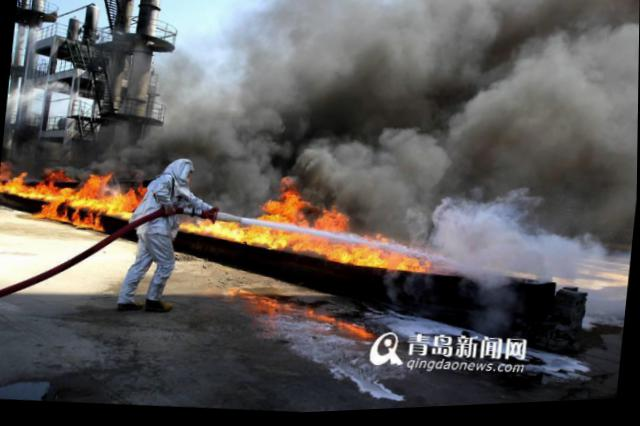fire: (180, 218, 244, 243), (328, 246, 383, 270), (57, 186, 105, 211), (243, 225, 288, 251), (263, 200, 304, 226), (288, 234, 330, 259), (314, 208, 349, 236), (103, 192, 135, 218), (386, 254, 422, 275), (17, 181, 57, 199), (38, 197, 59, 218), (80, 213, 103, 232), (83, 171, 105, 190), (0, 178, 21, 193), (69, 208, 83, 227), (282, 187, 298, 202), (57, 210, 71, 223)
